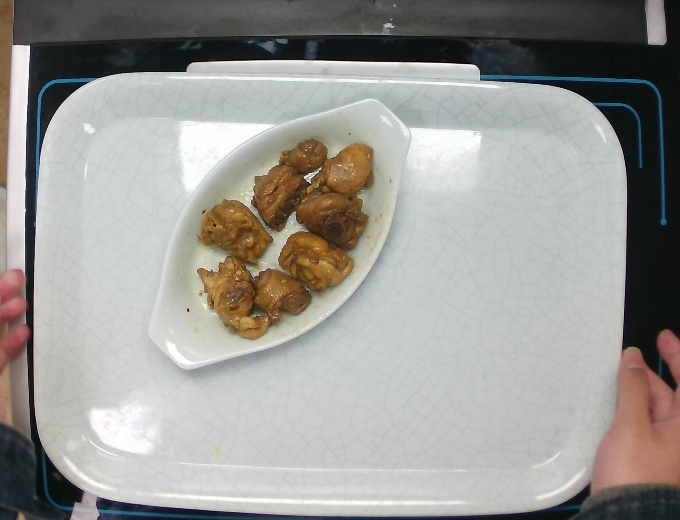JYsf-Yu_Pan: (144, 95, 413, 373)
